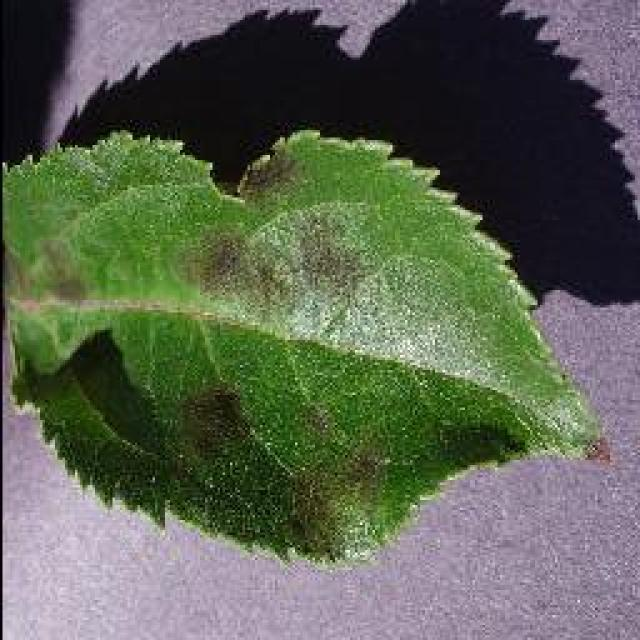apple scab disease: (0, 122, 608, 568)
